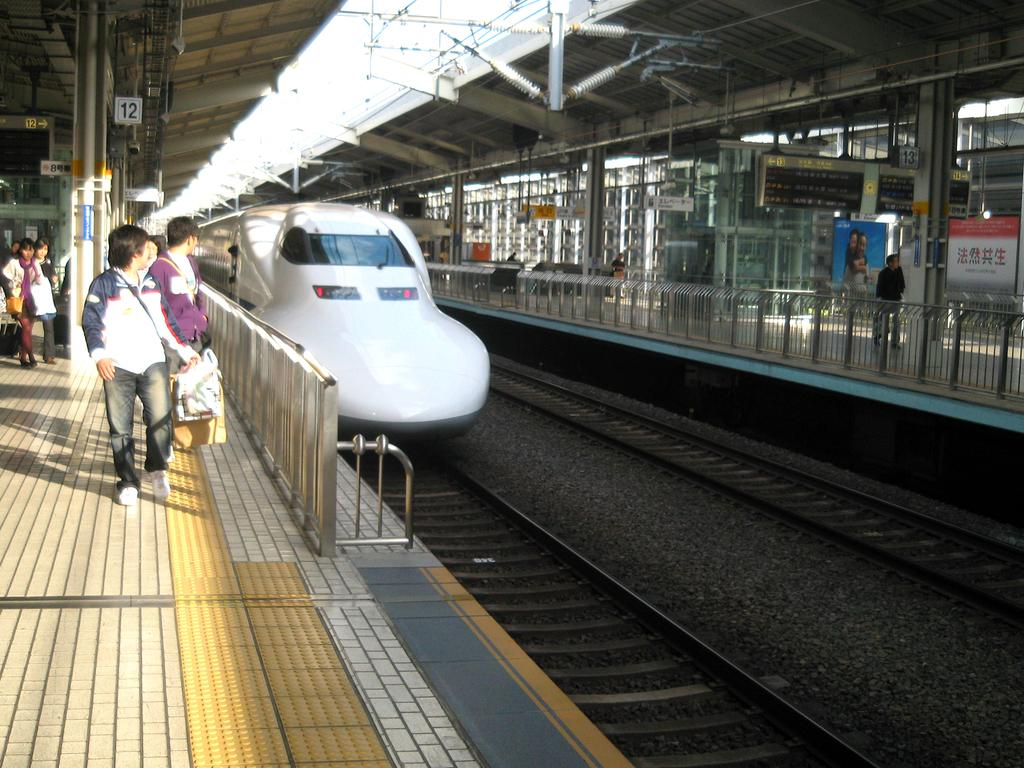Luggage-and-bags: (99, 269, 170, 356), (170, 346, 225, 455), (5, 294, 22, 313)
